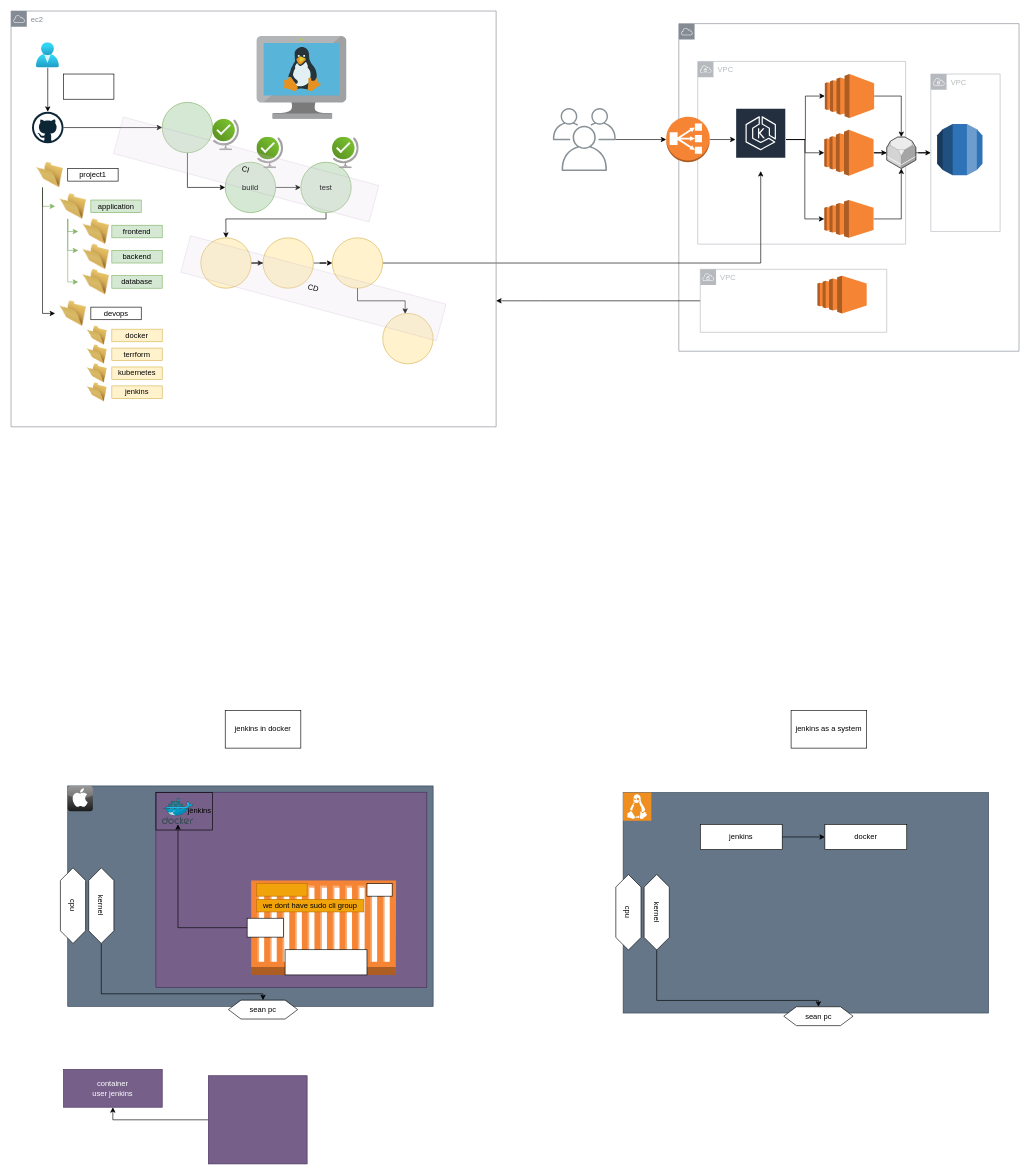
This 1030x1175 diagram has some shape labels left out. Here are the shapes that lost their labels. From the top down, the box of each, then its label:
(36, 42, 59, 67): yossi
(63, 73, 114, 99): update the code
(31, 111, 64, 143): github.com
(162, 102, 213, 153): clone
(553, 108, 616, 171): users
(735, 107, 786, 171): Amazon EKS
(678, 23, 1019, 351): AWS App account
(200, 237, 251, 288): deploy docker
(262, 237, 313, 288): infra terraform
(332, 237, 383, 288): k8s
(382, 313, 433, 364): monitoring
(256, 883, 307, 896): user - jenkins
(366, 883, 392, 896): root
(247, 918, 283, 937): volume
(284, 949, 367, 975): jenkins/jenkins
(208, 1075, 307, 1164): docker exec -u root -it root@jenkinscontiaaner apt install sudo jenkins> sudo
